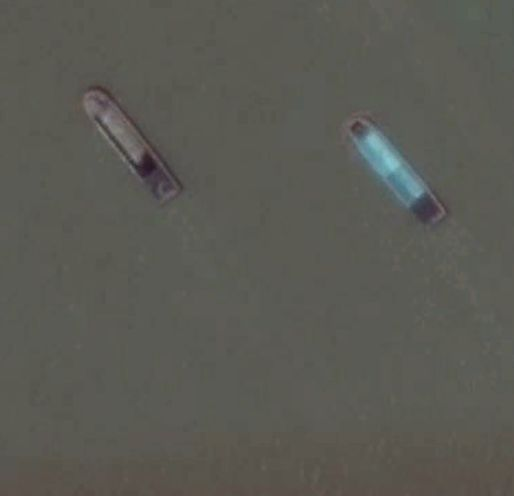boat: (81, 87, 184, 209), (344, 114, 446, 232)
